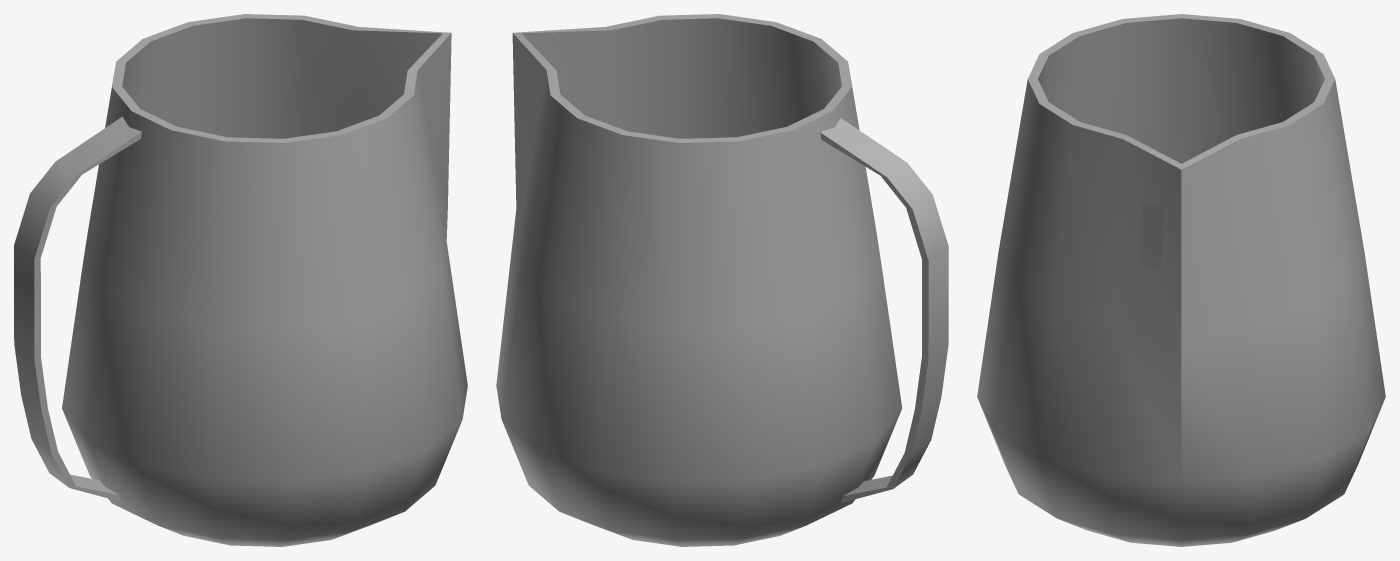
The model's file is Pitcher.fbx.
3 views of the same model, side by side, from view 1: azimuth 30°, elevation 25°; view 2: azimuth 150°, elevation 25°; view 3: azimuth 270°, elevation 25° (orthographic).
Visible parts, largest first — view 1: Milk_Pitcher, Handle; view 2: Milk_Pitcher, Handle; view 3: Milk_Pitcher.
Boxes of the visible parts, <box> form: Milk_Pitcher: <box>62,14,467,546</box>; Handle: <box>14,116,141,501</box>; Milk_Pitcher: <box>496,14,902,546</box>; Handle: <box>820,118,948,502</box>; Milk_Pitcher: <box>977,14,1385,546</box>.
Size of the model in its own units: 11.74 by 10.89 by 9.75.
1 material, 1 textured.
